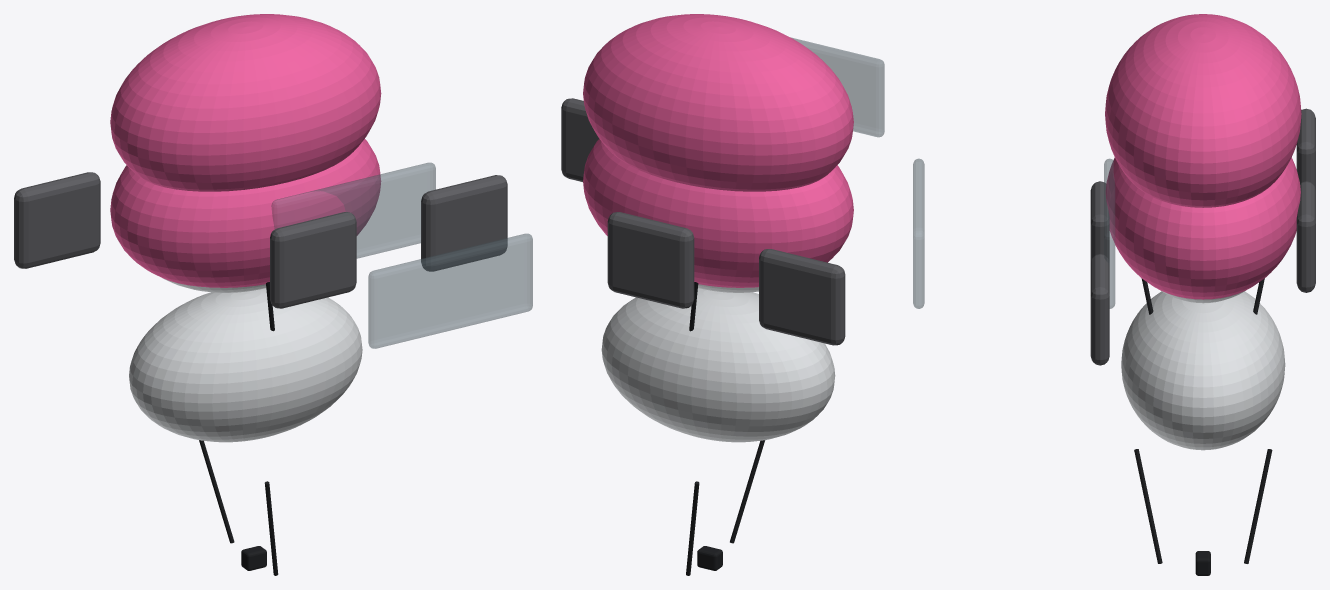
The model's file is poc-procen-air-m.glb.
The picture shows the model from 3 angles, left to right: view 1: azimuth 30°, elevation 25°; view 2: azimuth 150°, elevation 25°; view 3: azimuth 270°, elevation 25°; orthographic projection.
Visible parts, largest first — view 1: poc-procen-air-m_SHELL_EXPLODED, poc-procen-air-m_LINER_EXPLODED, poc-procen-air-m_SHELL, poc-procen-air-m_MAGNETIC_VISOR_EXPLODED, poc-procen-air-m_MAGNETIC_VISOR, poc-procen-air-m_RIGHT_EAR_COVER_EXPLODED, poc-procen-air-m_LEFT_EAR_COVER, poc-procen-air-m_LEFT_EAR_COVER_EXPLODED; view 2: poc-procen-air-m_SHELL_EXPLODED, poc-procen-air-m_LINER_EXPLODED, poc-procen-air-m_SHELL, poc-procen-air-m_RIGHT_EAR_COVER, poc-procen-air-m_RIGHT_EAR_COVER_EXPLODED, poc-procen-air-m_MAGNETIC_VISOR_EXPLODED, poc-procen-air-m_LEFT_EAR_COVER_EXPLODED, poc-procen-air-m_BUCKLE_EXPLODED, poc-procen-air-m_STRAP_L_EXPLODED, poc-procen-air-m_STRAP_R_EXPLODED; view 3: poc-procen-air-m_SHELL_EXPLODED, poc-procen-air-m_LINER_EXPLODED, poc-procen-air-m_SHELL, poc-procen-air-m_LEFT_EAR_COVER_EXPLODED, poc-procen-air-m_RIGHT_EAR_COVER, poc-procen-air-m_MAGNETIC_VISOR_EXPLODED, poc-procen-air-m_MAGNETIC_VISOR, poc-procen-air-m_LEFT_EAR_COVER, poc-procen-air-m_RIGHT_EAR_COVER_EXPLODED, poc-procen-air-m_STRAP_R_EXPLODED, poc-procen-air-m_STRAP_L_EXPLODED.
Boxes of the visible parts, box(x1,y1,x2,y2) form: poc-procen-air-m_SHELL_EXPLODED: box(110, 14, 381, 191); poc-procen-air-m_LINER_EXPLODED: box(129, 288, 362, 442); poc-procen-air-m_SHELL: box(110, 139, 381, 287); poc-procen-air-m_MAGNETIC_VISOR_EXPLODED: box(368, 233, 532, 348); poc-procen-air-m_MAGNETIC_VISOR: box(271, 162, 435, 258); poc-procen-air-m_RIGHT_EAR_COVER_EXPLODED: box(14, 172, 100, 268); poc-procen-air-m_LEFT_EAR_COVER: box(270, 212, 356, 308); poc-procen-air-m_LEFT_EAR_COVER_EXPLODED: box(421, 175, 507, 271); poc-procen-air-m_SHELL_EXPLODED: box(583, 14, 853, 191); poc-procen-air-m_LINER_EXPLODED: box(601, 288, 835, 442); poc-procen-air-m_SHELL: box(583, 139, 853, 287); poc-procen-air-m_RIGHT_EAR_COVER: box(607, 212, 694, 308); poc-procen-air-m_RIGHT_EAR_COVER_EXPLODED: box(759, 249, 845, 345); poc-procen-air-m_MAGNETIC_VISOR_EXPLODED: box(791, 37, 884, 137); poc-procen-air-m_LEFT_EAR_COVER_EXPLODED: box(561, 98, 599, 181); poc-procen-air-m_BUCKLE_EXPLODED: box(697, 546, 722, 570); poc-procen-air-m_STRAP_L_EXPLODED: box(730, 440, 765, 543); poc-procen-air-m_STRAP_R_EXPLODED: box(686, 481, 699, 575); poc-procen-air-m_SHELL_EXPLODED: box(1105, 14, 1301, 207); poc-procen-air-m_LINER_EXPLODED: box(1121, 291, 1285, 450); poc-procen-air-m_SHELL: box(1105, 157, 1300, 299); poc-procen-air-m_LEFT_EAR_COVER_EXPLODED: box(1090, 254, 1109, 365); poc-procen-air-m_RIGHT_EAR_COVER: box(1296, 181, 1315, 292); poc-procen-air-m_MAGNETIC_VISOR_EXPLODED: box(913, 158, 924, 308); poc-procen-air-m_MAGNETIC_VISOR: box(1104, 158, 1115, 308); poc-procen-air-m_LEFT_EAR_COVER: box(1090, 181, 1109, 262); poc-procen-air-m_RIGHT_EAR_COVER_EXPLODED: box(1296, 108, 1315, 190); poc-procen-air-m_STRAP_R_EXPLODED: box(1244, 449, 1272, 563); poc-procen-air-m_STRAP_L_EXPLODED: box(1134, 449, 1162, 563).
Bounding box in the file's own units: 0.46 × 0.617 × 0.422.
